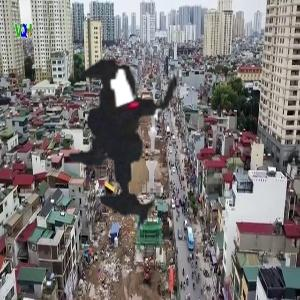drone: (6, 10, 266, 270)
